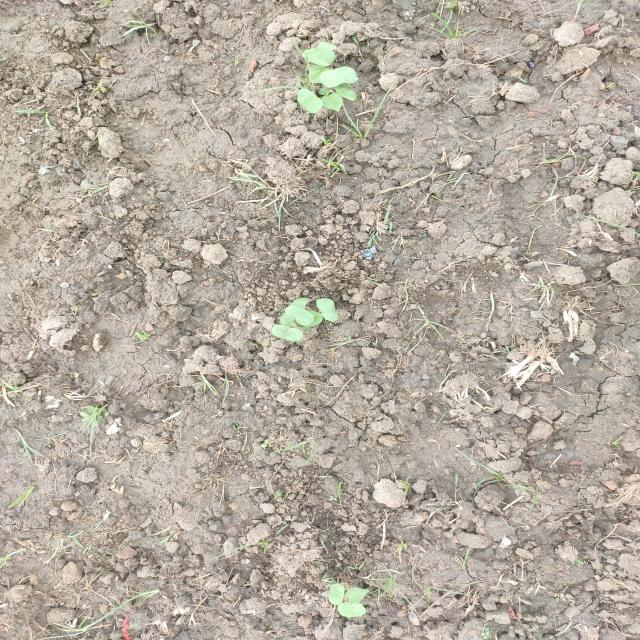seedling: (320, 66, 358, 88), (302, 48, 336, 67), (285, 305, 314, 326), (297, 89, 322, 113), (272, 324, 303, 342), (316, 298, 339, 321), (337, 602, 367, 617), (345, 587, 369, 604), (303, 310, 323, 330), (321, 93, 342, 112), (335, 83, 357, 101), (309, 65, 330, 83), (328, 583, 345, 605), (314, 42, 338, 57), (280, 313, 295, 327), (289, 298, 308, 309)
